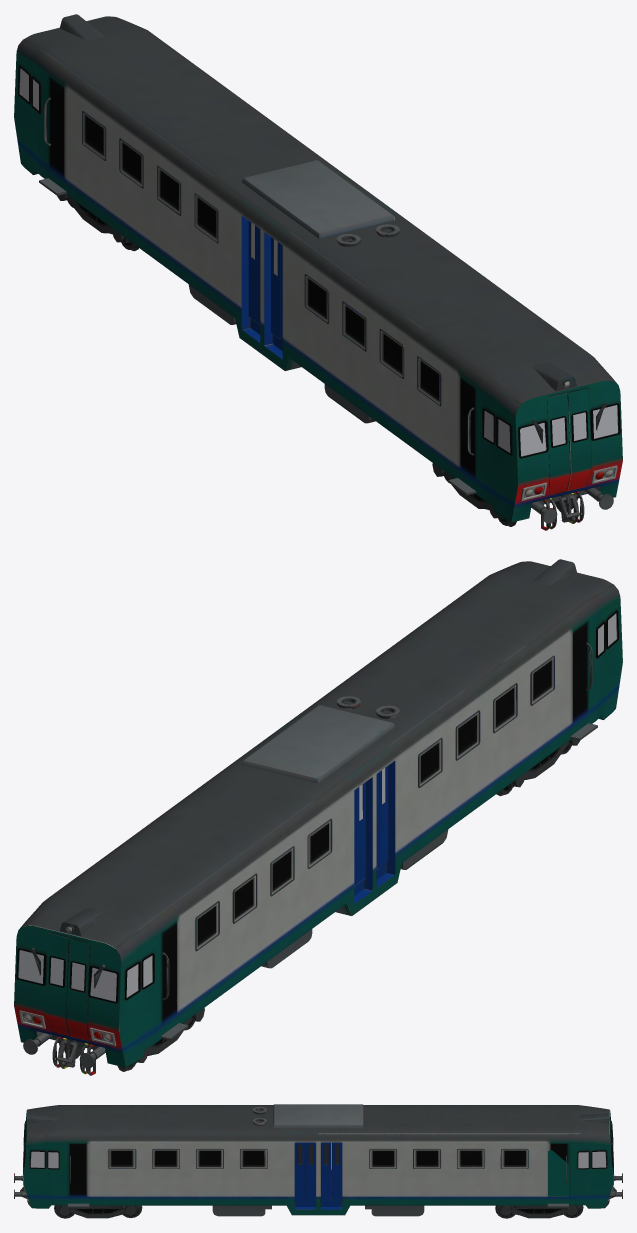
The model's file is railcar.glb.
3 views of the same model, one above another, from view 1: azimuth 30°, elevation 25°; view 2: azimuth 150°, elevation 25°; view 3: azimuth 270°, elevation 25° (orthographic). The views are drawn at different scales.
Visible parts, largest first — view 1: kit0, far, kit1, glass1, glass0; view 2: kit0, far, kit1, glass1, glass0; view 3: kit0, far, kit1, glass0, glass1.
Boxes of the visible parts, x1,y1,x2,y2 form: kit0: (15, 14, 622, 530); far: (14, 53, 620, 522); kit1: (19, 17, 622, 527); glass1: (25, 83, 617, 455); glass0: (20, 68, 617, 456); kit0: (14, 559, 621, 1075); far: (15, 578, 622, 1067); kit1: (14, 562, 617, 1073); glass1: (19, 630, 614, 1000); glass0: (19, 613, 616, 1001); kit0: (14, 1104, 622, 1218); far: (23, 1108, 613, 1216); kit1: (20, 1105, 616, 1217); glass0: (30, 1151, 606, 1168); glass1: (31, 1153, 605, 1167).
Bounding box in the file's own units: 2.33 × 2.8 × 16.
Materials: 1 (1 with a texture image).
